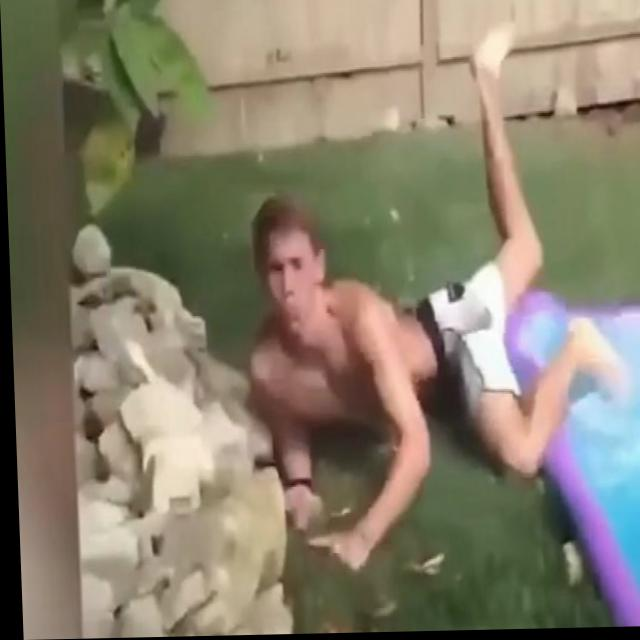fall: (240, 29, 616, 573)
